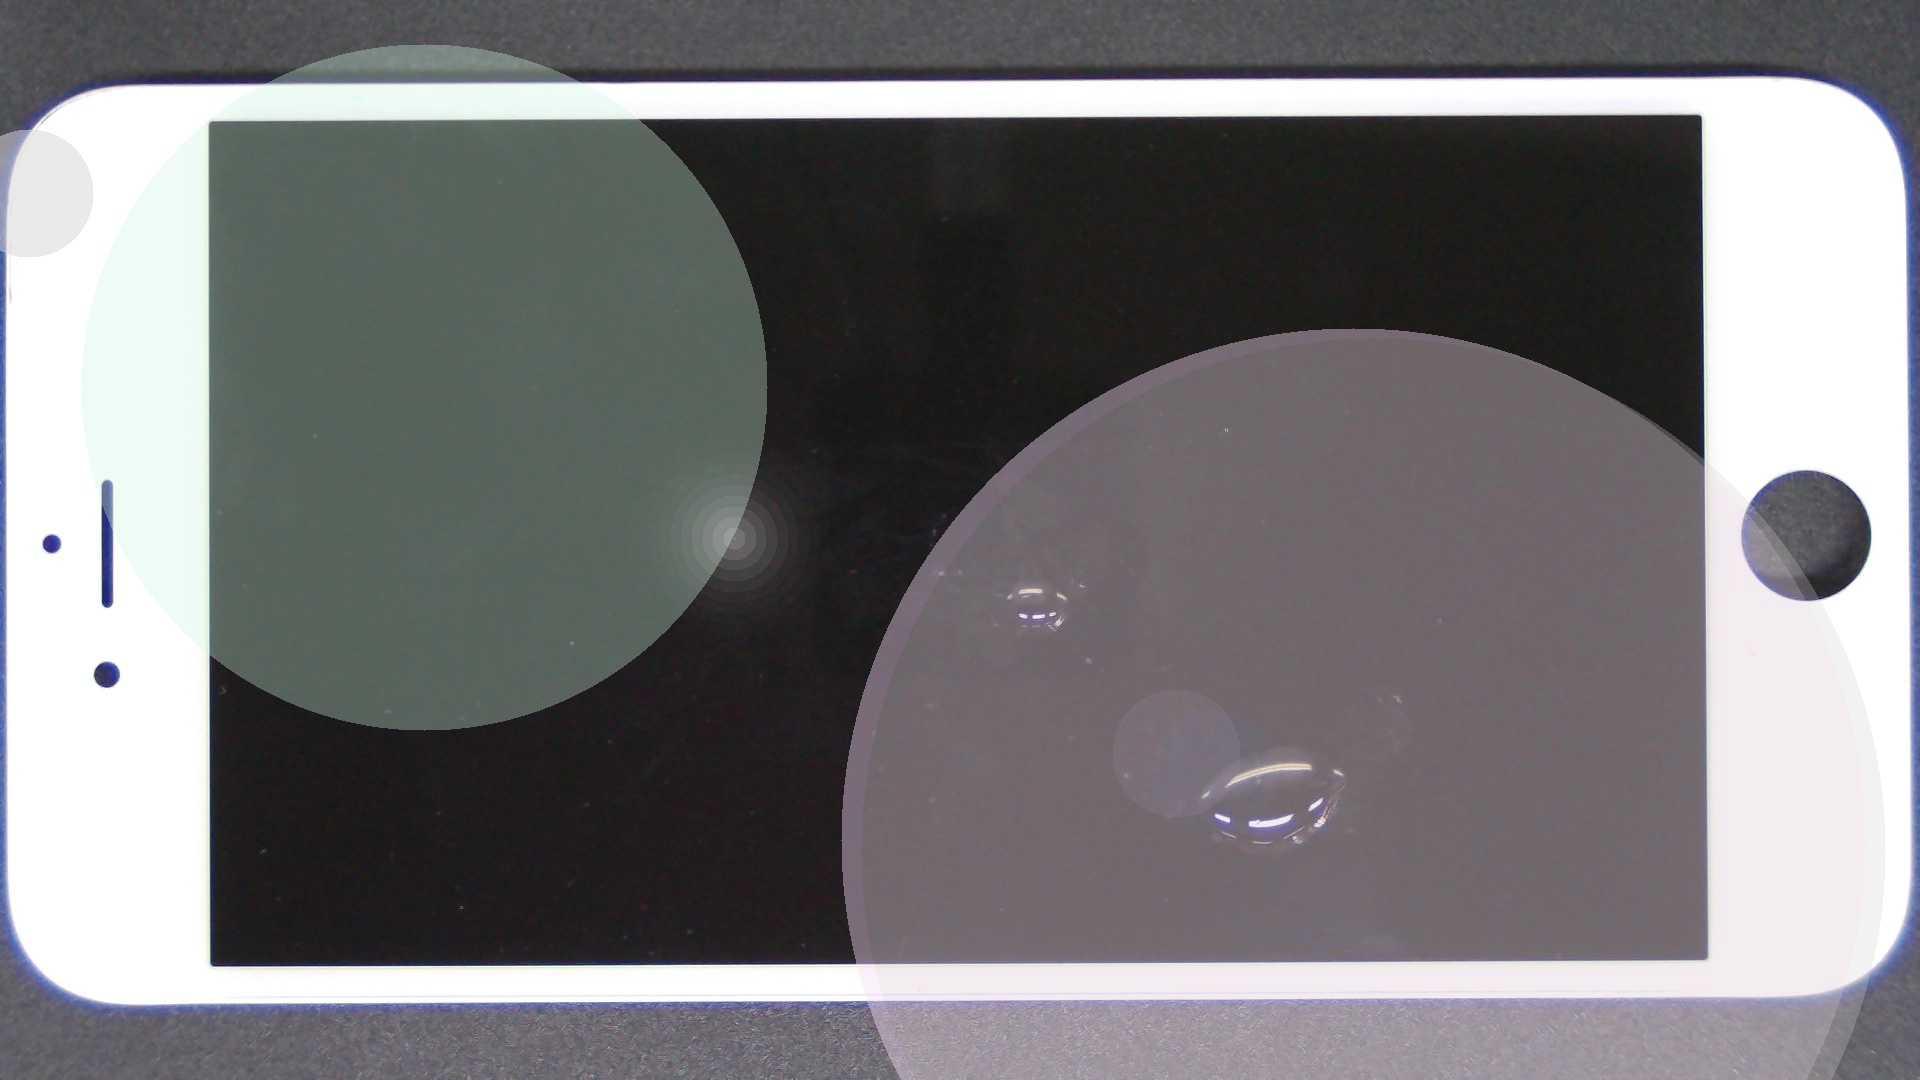oil: (642, 372, 1920, 1080), (518, 291, 1552, 876)
